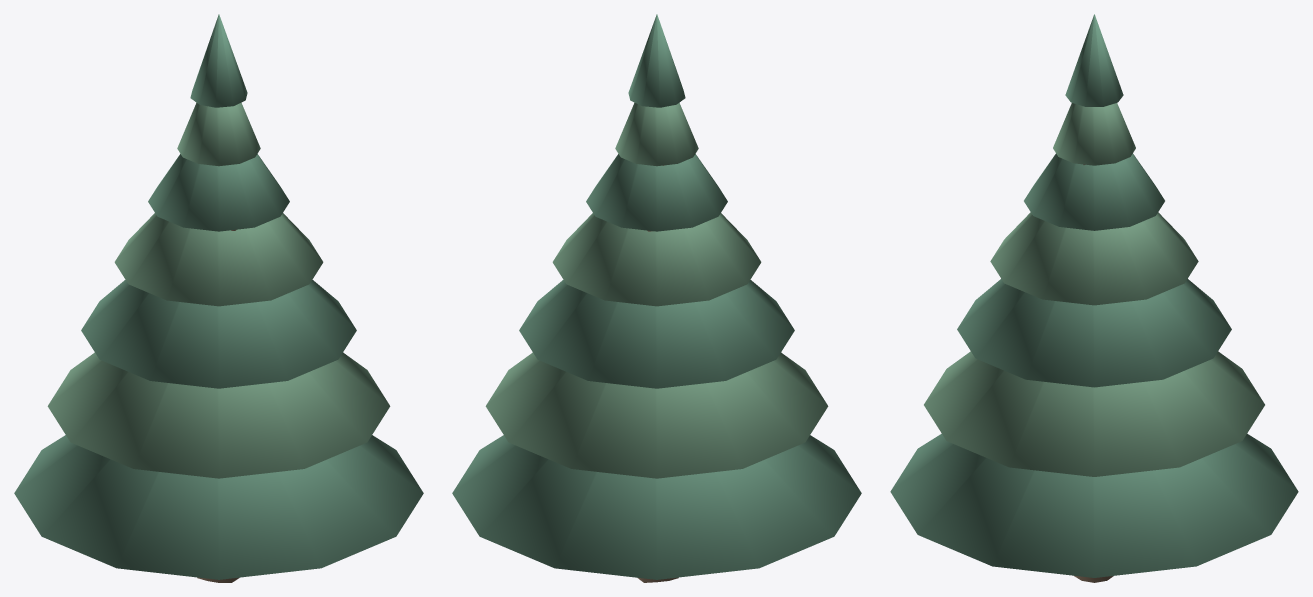
Rendered from pine.glb.
3 views of the same model, side by side, from view 1: azimuth 30°, elevation 25°; view 2: azimuth 150°, elevation 25°; view 3: azimuth 270°, elevation 25° (orthographic).
Visible parts, largest first — view 1: org_pine; view 2: org_pine; view 3: org_pine.
Boxes of the visible parts, x1=… form: org_pine: x1=14, y1=14, x2=423, y2=582; org_pine: x1=452, y1=14, x2=861, y2=582; org_pine: x1=890, y1=14, x2=1298, y2=582.
Bounding box in the file's own units: 1.96 × 2.95 × 1.96.
